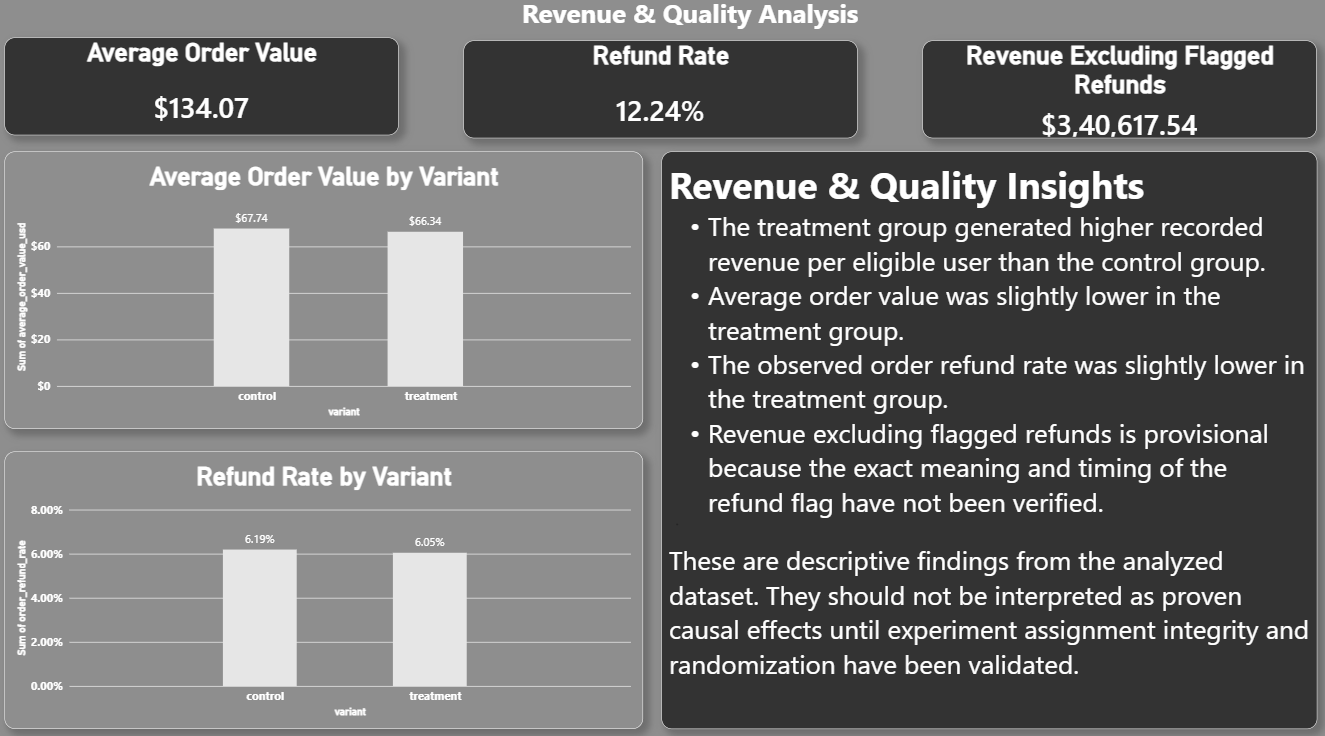

This screenshot's page, from the dashboard's own definition file:
{"tool":"powerbi","page":{"name":"Revenue & Quality Analysis","canvas":[1920,1080],"ordinal":1},"visuals":[{"type":"cardVisual","title":"Average Order Value","fields":{"Data":["Sum(Variant Summary.average_order_value_usd)"]},"box":[20,67.5,564.8,139.9],"z":0},{"type":"textbox","box":[699.7,7.5,602.2,62.5],"z":1000},{"type":"cardVisual","title":"Refund Rate","fields":{"Data":["Sum(Variant Summary.order_refund_rate)"]},"box":[677.2,70,564.8,139.9],"z":2000},{"type":"cardVisual","title":"Revenue Excluding Flagged Refunds","fields":{"Data":["Sum(Variant Summary.revenue_excluding_flagged_refunds_usd)"]},"box":[1334.4,70,564.8,139.9],"z":3000},{"type":"clusteredColumnChart","title":"Average Order Value by Variant","fields":{"Category":["Variant Summary.variant"],"Y":["Sum(Variant Summary.average_order_value_usd)"]},"box":[20,229.9,914.6,397.3],"z":5000},{"type":"clusteredColumnChart","title":"Refund Rate by Variant","fields":{"Category":["Variant Summary.variant"],"Y":["Sum(Variant Summary.order_refund_rate)"]},"box":[20,659.7,914.6,397.3],"z":6000},{"type":"textbox","box":[959.6,229.9,939.6,827.1],"z":8001}]}

Visuals, with their boxes in screenshot pixels (x1, y1, x2, y2), scaled from the page's 1920x1080 canvas onto the 1325x736 screenshot:
"Average Order Value" cardVisual: [14,46,404,141]
textbox: [483,5,898,48]
"Refund Rate" cardVisual: [467,48,857,143]
"Revenue Excluding Flagged Refunds" cardVisual: [921,48,1311,143]
"Average Order Value by Variant" clusteredColumnChart: [14,157,645,427]
"Refund Rate by Variant" clusteredColumnChart: [14,450,645,720]
textbox: [662,157,1311,720]
